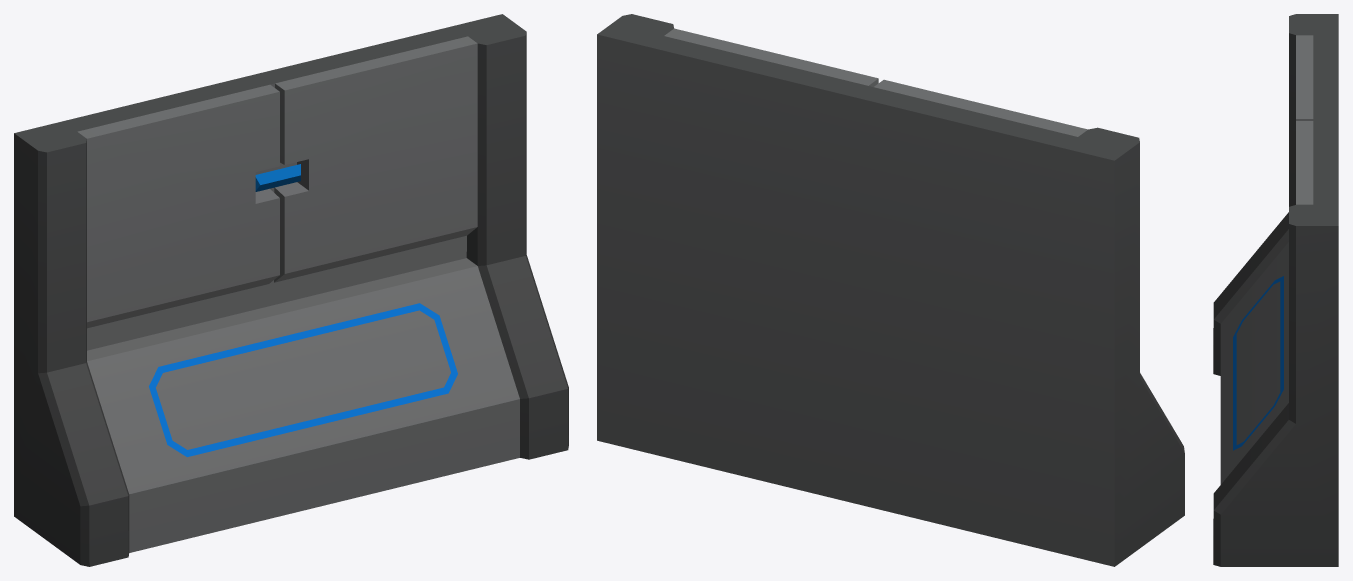
File: Wall_type_B_029.fbx
3 renders of one model, left to right at view 1: azimuth 30°, elevation 25°; view 2: azimuth 150°, elevation 25°; view 3: azimuth 270°, elevation 25°, orthographic. The views are drawn at different scales.
Parts seen in each view (by area): view 1: Wall_type_B_029; view 2: Wall_type_B_029; view 3: Wall_type_B_029.
Part boxes in pixels (<box>): Wall_type_B_029: <box>14,14,568,566</box>; Wall_type_B_029: <box>597,14,1184,566</box>; Wall_type_B_029: <box>1213,14,1338,566</box>.
Bounding box in the file's own units: 200 × 50 × 150.
